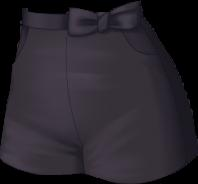Pantleg: (64, 1, 197, 182), (0, 8, 81, 173)
Waistline: (22, 4, 140, 15)
